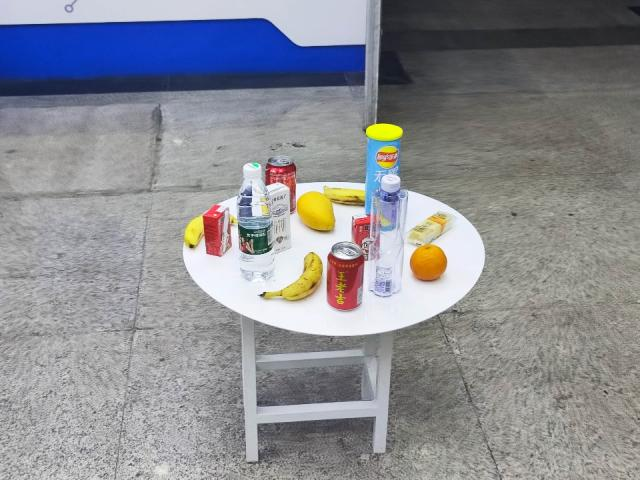Canned_drinks: (326, 240, 364, 316)
bottle: (234, 163, 271, 281)
drink_box: (199, 197, 235, 262)
